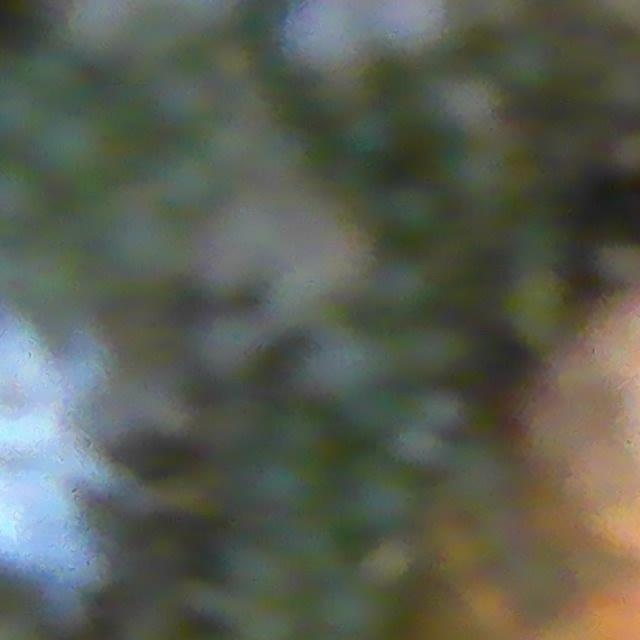SeaGrape: (421, 66, 505, 142), (346, 463, 423, 538), (289, 0, 349, 67), (383, 0, 443, 51), (76, 0, 133, 47)
